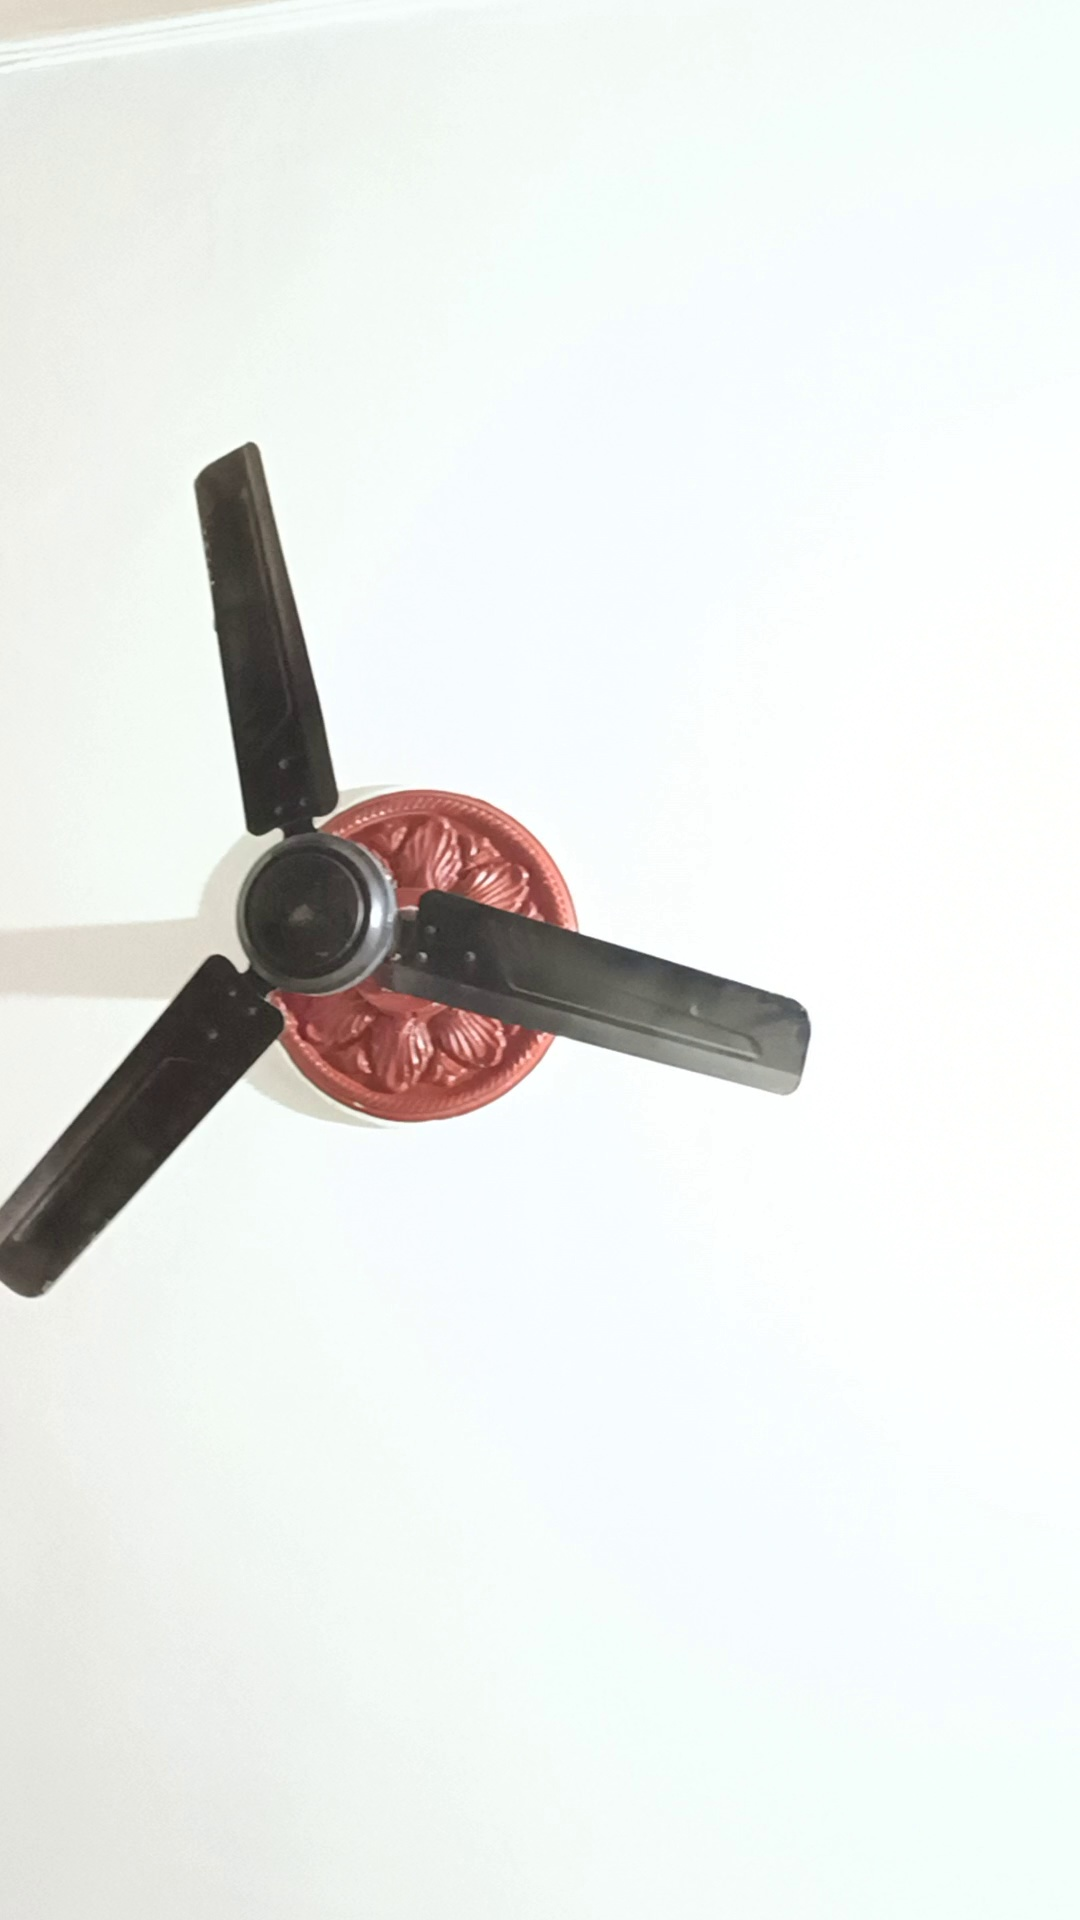fan: (1, 430, 824, 1331)
